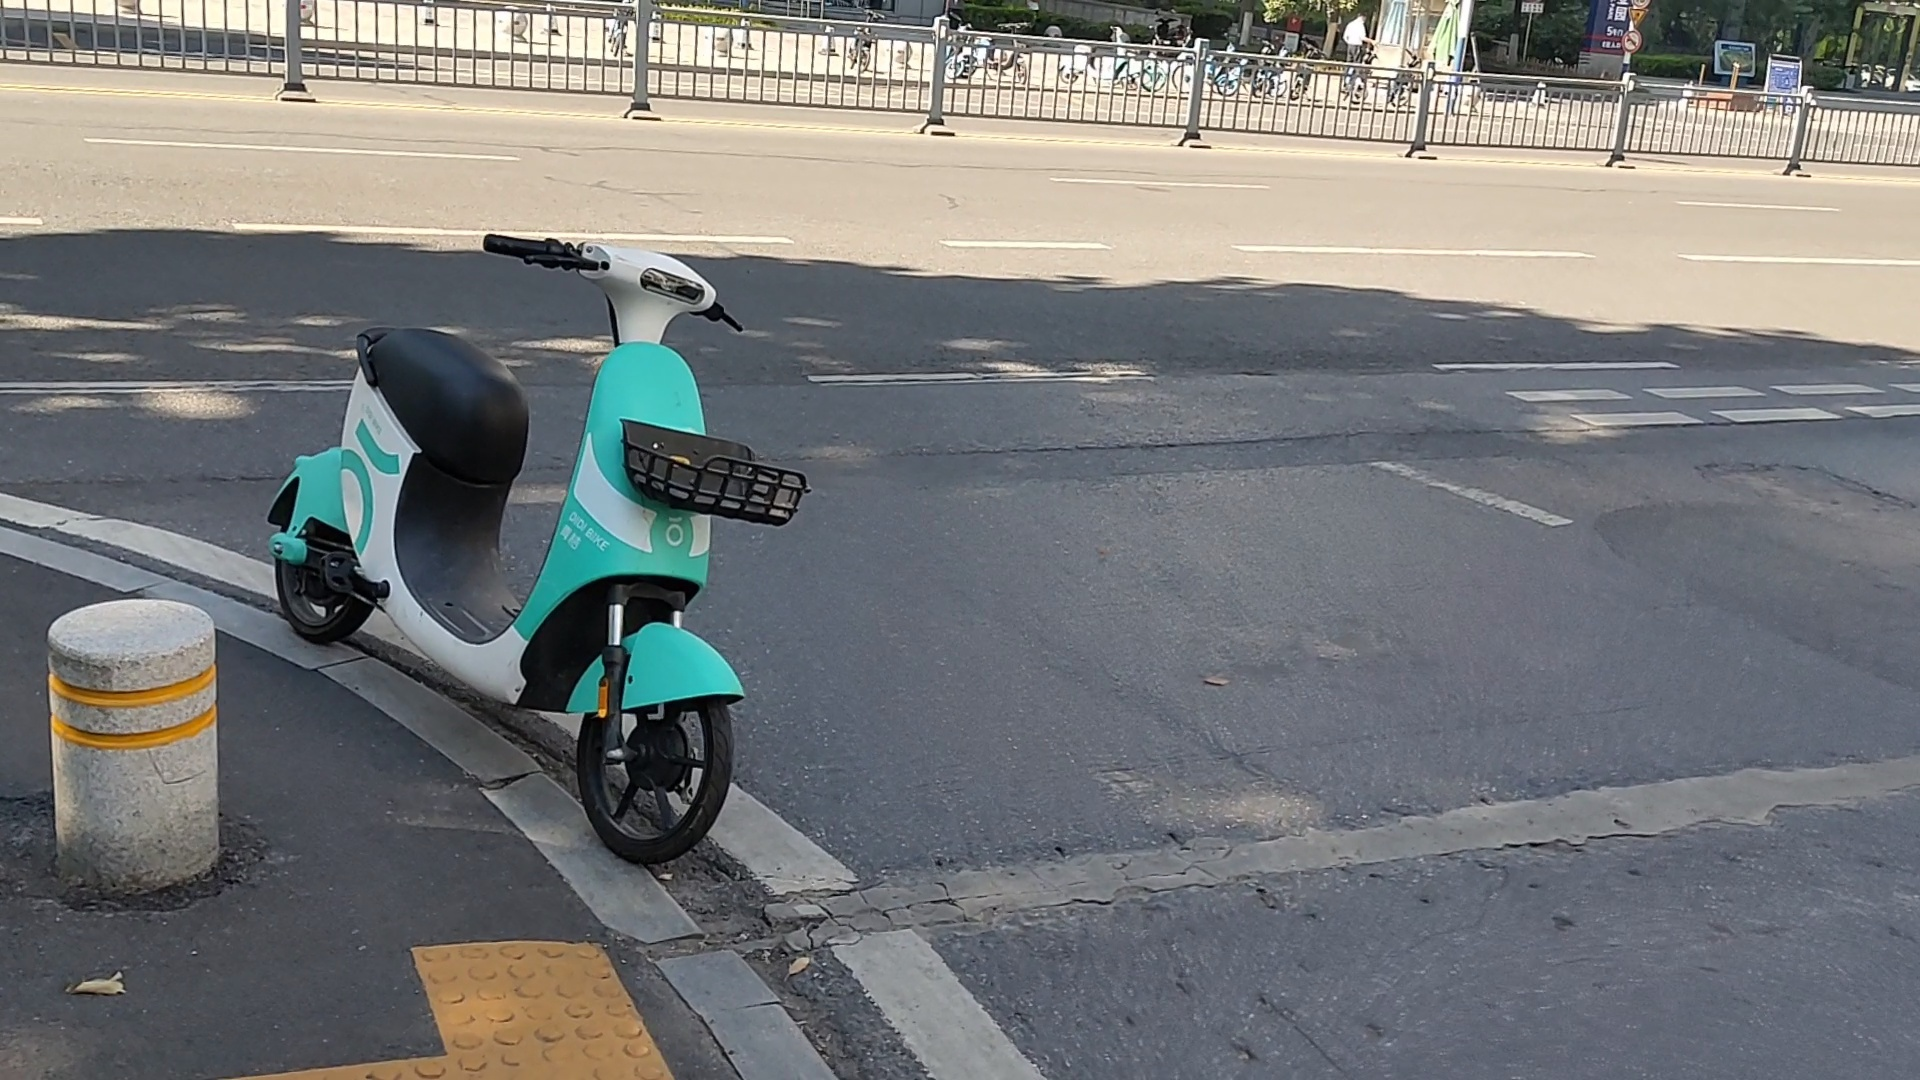non-vehicle: (257, 229, 803, 858), (1253, 61, 1305, 98), (947, 41, 996, 80)
